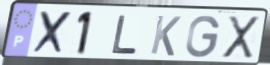1: (74, 10, 96, 58)
G: (185, 15, 222, 60)
K: (148, 14, 183, 58)
L: (110, 13, 140, 55)
X: (31, 10, 75, 57), (221, 15, 261, 61)
